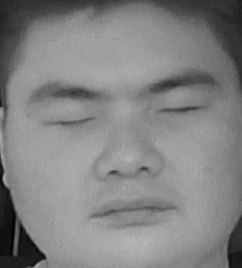blink: (44, 103, 96, 141), (154, 95, 205, 128)
mouth: (93, 188, 177, 232)
